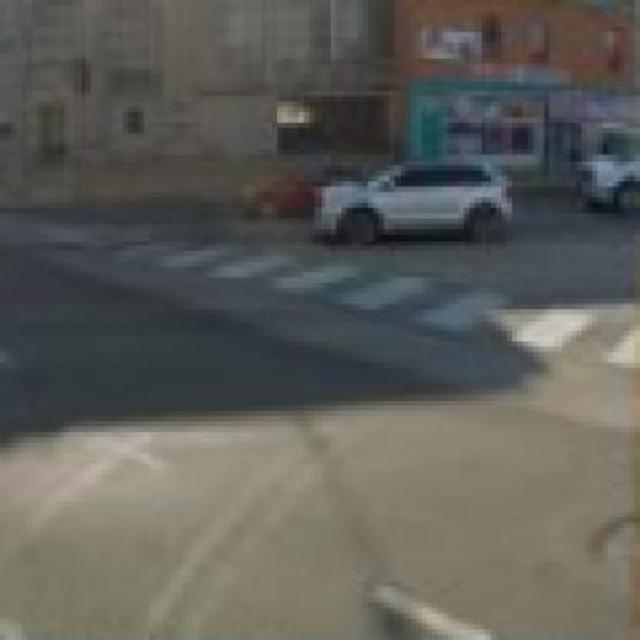crosswalk: (87, 239, 640, 366)
